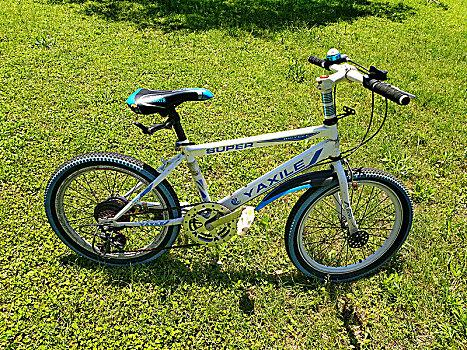单车: (25, 46, 436, 316)
